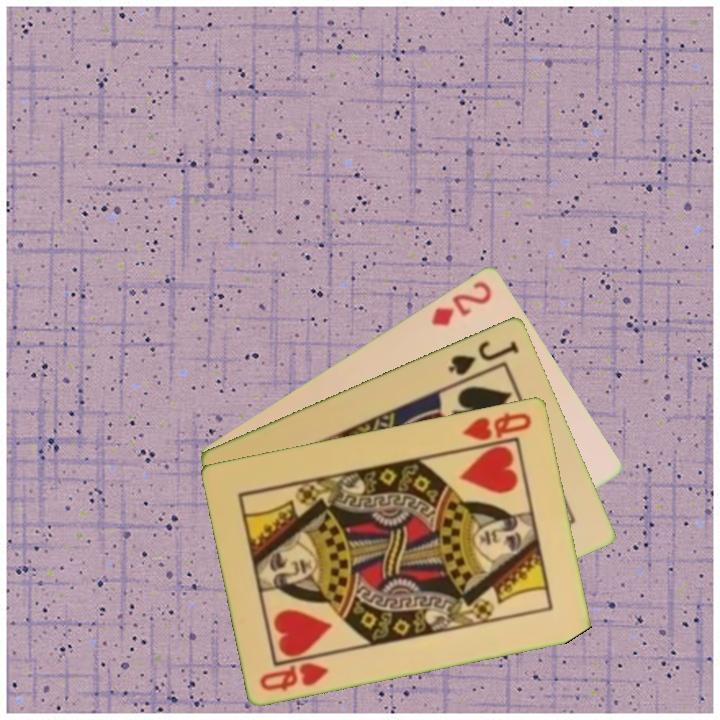2d: (428, 277, 495, 329)
Js: (444, 336, 522, 378)
Qh: (458, 408, 535, 450), (256, 658, 332, 694)
